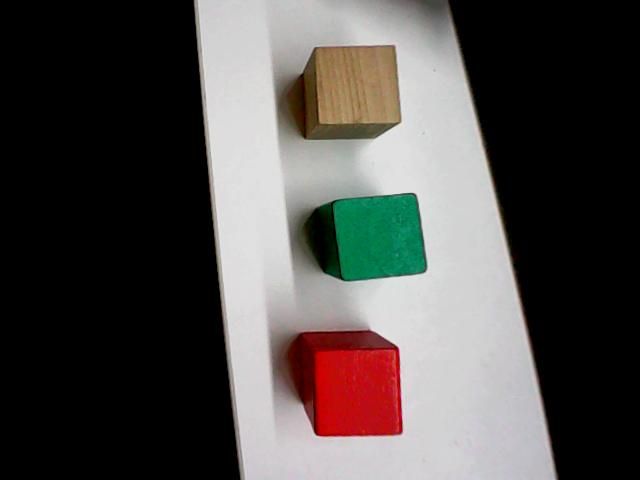green_box: (312, 189, 431, 284)
raw_box: (299, 41, 405, 143)
red_box: (296, 326, 407, 441)
